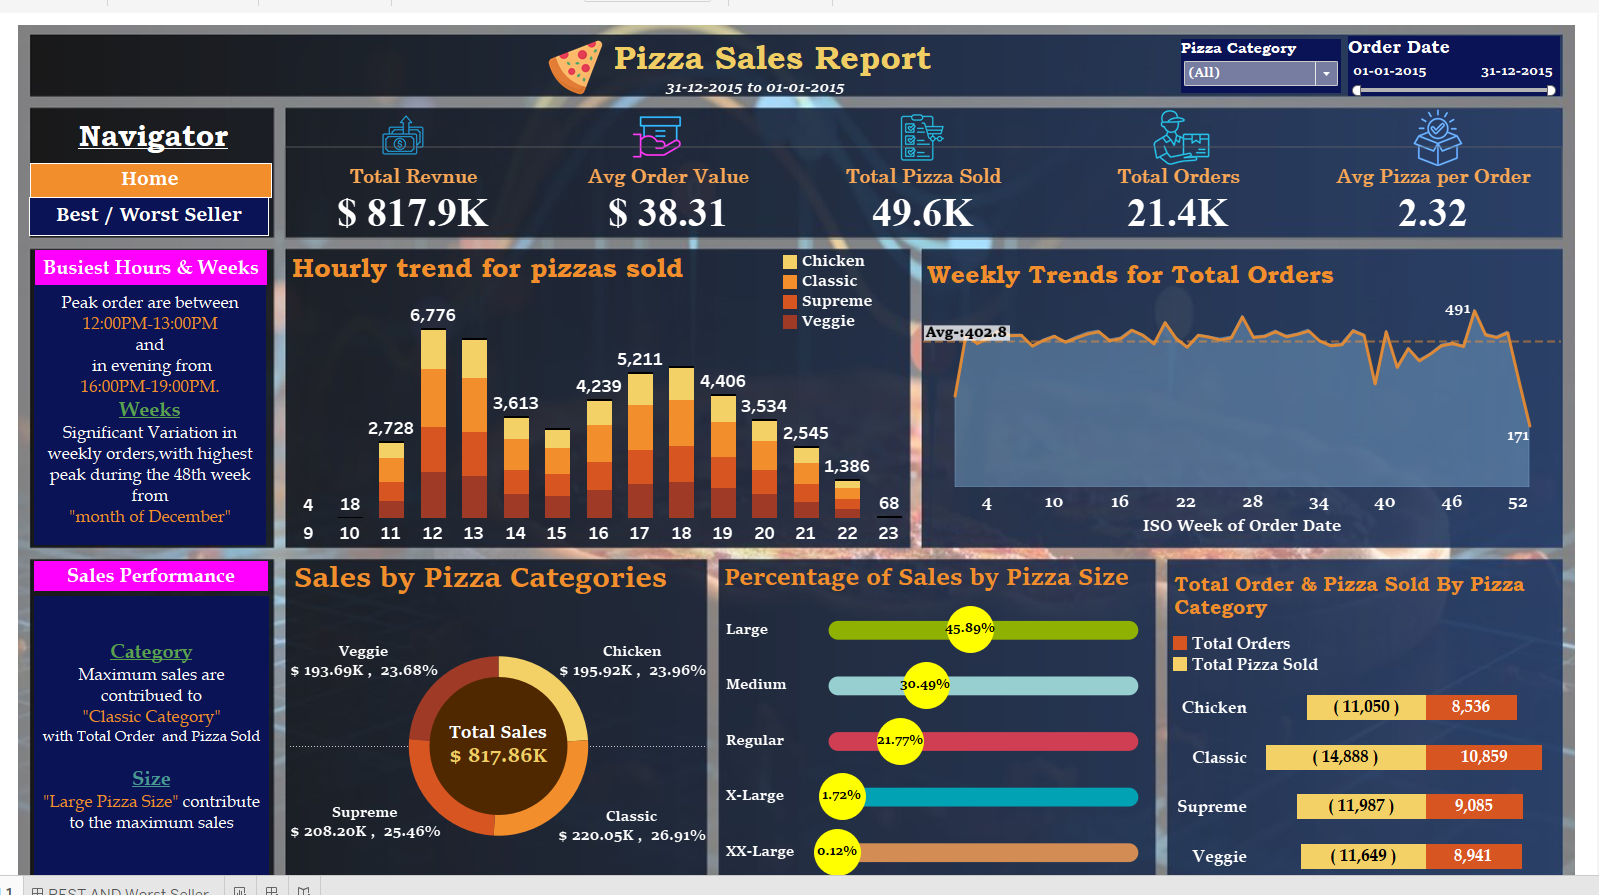

This screenshot's page, from the dashboard's own definition file:
{"tool":"tableau","page":{"name":"Dashboard 1","canvas":[1600,900],"ordinal":1},"visuals":[{"type":"image","param":"C:/Users/Dell/Downloads/Pizza Tableau 1.jpg","box":[8,8,1584,884]},{"type":"text","box":[353,23,845,42]},{"type":"filter","title":"Hourly trend for pizzas sold","param":"[federated.1i1w8xh1g0i6f81924onx1y7cppg].[none:order_date:qk]","box":[1351,23,212,60]},{"type":"image","param":"C:/Users/Dell/Desktop/My work/Finall projects/Amazon Sales analysis Dashboard us","box":[537,26,83,56]},{"type":"filter","title":"Hourly trend for pizzas sold","param":"[federated.1i1w8xh1g0i6f81924onx1y7cppg].[none:pizza_category:nk]","box":[1184,26,160,54]},{"type":"worksheet","title":"Sheet 7","mark":"Automatic","box":[492,57,533,38]},{"type":"image","param":"C:/Users/Dell/Desktop/My work/Finall projects/Amazon Sales analysis Dashboard us","box":[1141,95,87,58]},{"type":"image","param":"C:/Users/Dell/Desktop/My work/Finall projects/Amazon Sales analysis Dashboard us","box":[608,96,104,55]},{"type":"image","param":"C:/Users/Dell/Desktop/My work/Finall projects/Amazon Sales analysis Dashboard us","box":[1402,96,78,57]},{"type":"text","box":[34,97,245,51]},{"type":"image","param":"C:/Users/Dell/Desktop/My work/Finall projects/Amazon Sales analysis Dashboard us","box":[319,98,173,47]},{"type":"image","param":"C:/Users/Dell/Desktop/My work/Finall projects/Amazon Sales analysis Dashboard us","box":[886,100,79,48]},{"type":"worksheet","title":"KPI Banner","mark":"Automatic","box":[289,135,1275,90]},{"type":"dashboard-object","box":[33,150,242,35]},{"type":"dashboard-object","box":[32,184,240,39]},{"type":"worksheet","title":"Hourly trend for pizzas sold","mark":"Bar","rows":["Calculation_410671991179014147","Calculation_410671991179014147"],"cols":["order_time"],"box":[291,235,622,297]},{"type":"text","box":[38,237,232,35]},{"type":"legend","title":"Hourly trend for pizzas sold","param":"[federated.1i1w8xh1g0i6f81924onx1y7cppg].[none:pizza_category:nk]","box":[783,239,129,82]},{"type":"worksheet","title":"Weekly Trends for Total Orders","mark":"Area","rows":["Calculation_410671991178371073","Calculation_410671991178371073"],"cols":["order_date"],"box":[926,242,638,287]},{"type":"text","box":[37,272,232,260]},{"type":"worksheet","title":"Sales by Pizza Categories","mark":"Pie","rows":["Calculation_410671991218077702","Calculation_410671991218114568"],"box":[293,547,417,327]},{"type":"text","box":[37,548,234,30]},{"type":"worksheet","title":"Percentage of Sales by Pizza Size","mark":"Line","rows":["pizza_size"],"box":[723,549,433,318]},{"type":"text","box":[1174,549,394,68]},{"type":"text","box":[37,583,235,287]},{"type":"legend","title":"Total Orders and Pizza Sale by Pizza Category","param":"[federated.1i1w8xh1g0i6f81924onx1y7cppg].[:Measure Names]","box":[1173,620,396,52]},{"type":"worksheet","title":"Total Orders and Pizza Sale by Pizza Category","mark":"Automatic","rows":["pizza_category"],"box":[1175,670,384,198]}]}

Visuals, with their boxes on the page's 1600x900 design canvas (x1, y1, x2, y2). These are canvas units, not pixel positions in the 1599x895 screenshot, which may show the page scaled, cropped or inside an application window:
image: (8, 8, 1592, 892)
text: (353, 23, 1198, 65)
"Hourly trend for pizzas sold" filter: (1351, 23, 1563, 83)
image: (537, 26, 620, 82)
"Hourly trend for pizzas sold" filter: (1184, 26, 1344, 80)
"Sheet 7" worksheet: (492, 57, 1025, 95)
image: (1141, 95, 1228, 153)
image: (608, 96, 712, 151)
image: (1402, 96, 1480, 153)
text: (34, 97, 279, 148)
image: (319, 98, 492, 145)
image: (886, 100, 965, 148)
"KPI Banner" worksheet: (289, 135, 1564, 225)
dashboard-object: (33, 150, 275, 185)
dashboard-object: (32, 184, 272, 223)
"Hourly trend for pizzas sold" worksheet (Bar marks): (291, 235, 913, 532)
text: (38, 237, 270, 272)
"Hourly trend for pizzas sold" legend: (783, 239, 912, 321)
"Weekly Trends for Total Orders" worksheet (Area marks): (926, 242, 1564, 529)
text: (37, 272, 269, 532)
"Sales by Pizza Categories" worksheet (Pie marks): (293, 547, 710, 874)
text: (37, 548, 271, 578)
"Percentage of Sales by Pizza Size" worksheet (Line marks): (723, 549, 1156, 867)
text: (1174, 549, 1568, 617)
text: (37, 583, 272, 870)
"Total Orders and Pizza Sale by Pizza Category" legend: (1173, 620, 1569, 672)
"Total Orders and Pizza Sale by Pizza Category" worksheet: (1175, 670, 1559, 868)
